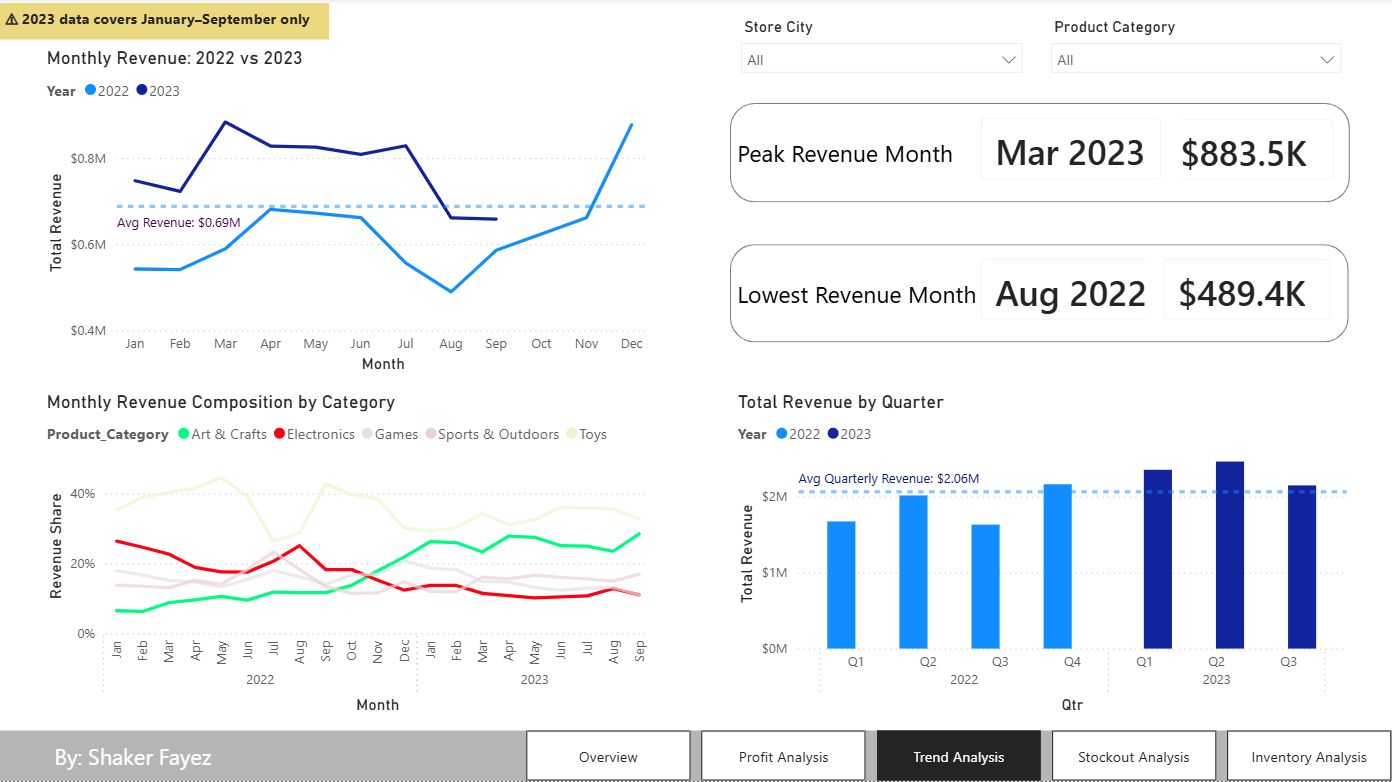

This screenshot's page, from the dashboard's own definition file:
{"tool":"powerbi","page":{"name":"Trend Analysis","canvas":[1280,720],"ordinal":2},"visuals":[{"type":"lineChart","title":"Monthly Revenue: 2022 vs 2023","fields":{"Category":["Calender.Date Hierarchy.Month"],"Y":["_Measures.Total Revenue"],"Series":["Calender.Date Hierarchy.Year"]},"box":[38.2,44.6,564.3,304.5],"z":0},{"type":"textbox","box":[0,4.7,302.3,33.7],"z":1000},{"type":"lineChart","title":"Monthly Revenue Composition by Category","fields":{"Category":["Calendar.Date Hierarchy.Year","Calendar.Date Hierarchy.Month"],"Series":["products.Product_Category"],"Y":["_Measures.% of Total Revenue"]},"box":[38.2,360.5,564.3,301.9],"z":2000},{"type":"cardVisual","title":"Total Profit","fields":{"Data":["_Measures.Peak Monthly Revenue"]},"box":[1054.4,93.9,188.4,90.7],"z":3000},{"type":"cardVisual","title":"Total Profit","fields":{"Data":["_Measures.Peak Revenue Month"]},"box":[884.4,92.6,200.5,91.4],"z":4000},{"type":"cardVisual","title":"Total Profit","fields":{"Data":["_Measures.Lowest Revenue Month"]},"box":[884.4,223.3,200,90.7],"z":5000},{"type":"cardVisual","title":"Total Profit","fields":{"Data":["_Measures.Lowest Monthly Revenue"]},"box":[1051.9,223.3,188.4,90.7],"z":6000},{"type":"shape","box":[671.2,96.4,569.7,91.4],"z":7000},{"type":"shape","box":[671.2,225.9,568.4,90.1],"z":8000},{"type":"clusteredColumnChart","title":"Total Revenue by Quarter","fields":{"Y":["_Measures.Total Revenue"],"Category":["Calendar.Date Hierarchy.Year","Calendar.Date Hierarchy.Qtr"],"Series":["Calendar.Date Hierarchy.Year"]},"box":[672.6,360.5,569.4,301.9],"z":9000},{"type":"shape","box":[0,673.3,1280.2,46.5],"z":10000},{"type":"pageNavigator","box":[483.5,673.3,796.5,46.5],"z":11000},{"type":"slicer","fields":{"Values":["stores.Store_Name"]},"box":[671.2,12.7,279.1,62.2],"z":11001},{"type":"slicer","fields":{"Values":["products.Product_Category"]},"box":[955.4,12.7,286.8,62.2],"z":11002}]}

Visuals, with their boxes in screenshot pixels (x1, y1, x2, y2), scaled from the page's 1280x720 canvas onto the 1392x782 screenshot:
"Monthly Revenue: 2022 vs 2023" lineChart: bbox=[42, 48, 655, 379]
textbox: bbox=[0, 5, 329, 42]
"Monthly Revenue Composition by Category" lineChart: bbox=[42, 392, 655, 719]
"Total Profit" cardVisual: bbox=[1147, 102, 1352, 200]
"Total Profit" cardVisual: bbox=[962, 101, 1180, 200]
"Total Profit" cardVisual: bbox=[962, 243, 1179, 341]
"Total Profit" cardVisual: bbox=[1144, 243, 1349, 341]
shape: bbox=[730, 105, 1349, 204]
shape: bbox=[730, 245, 1348, 343]
"Total Revenue by Quarter" clusteredColumnChart: bbox=[731, 392, 1351, 719]
shape: bbox=[0, 731, 1391, 781]
pageNavigator: bbox=[526, 731, 1391, 781]
slicer - stores.Store_Name: bbox=[730, 14, 1033, 81]
slicer - products.Product_Category: bbox=[1039, 14, 1351, 81]
